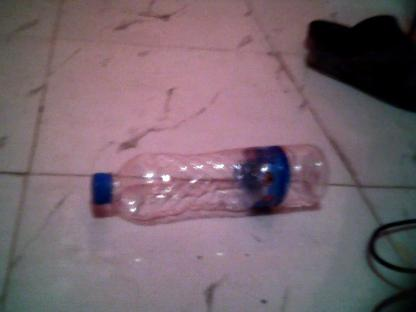Plastic Bottle: (90, 142, 328, 224)
